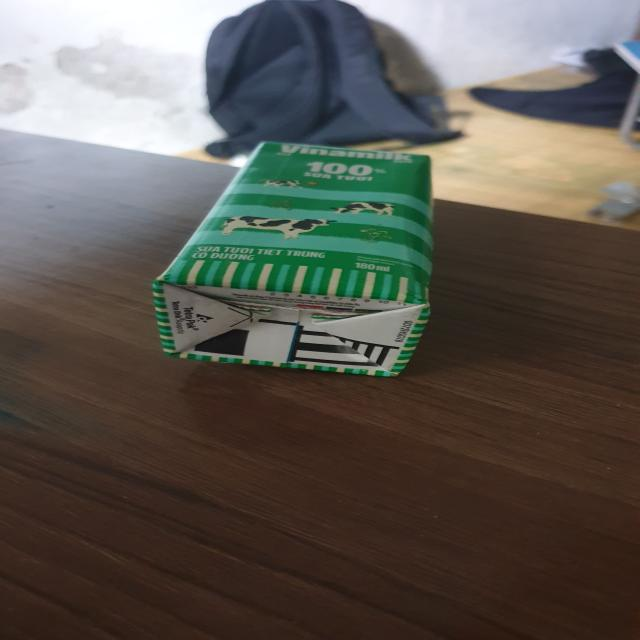Vina: (156, 142, 436, 382)
